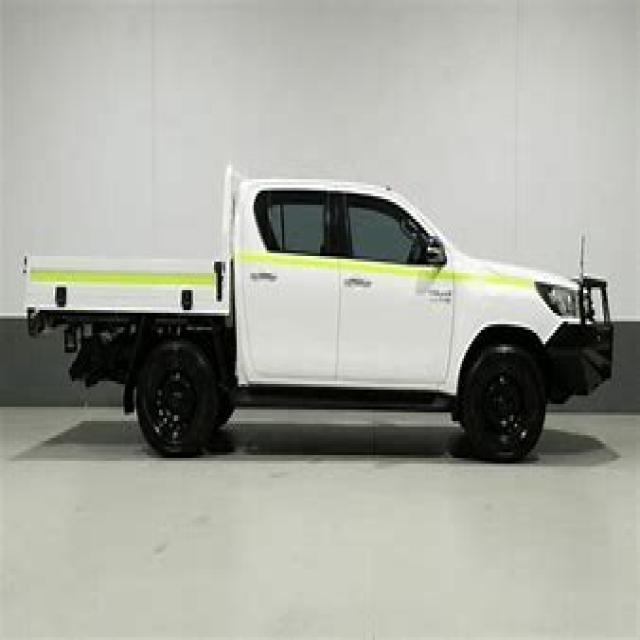light_vehicle: (15, 142, 634, 472)
